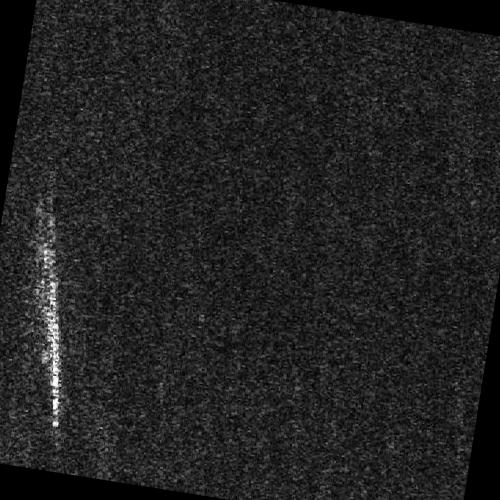ship: (46, 279, 61, 427)
